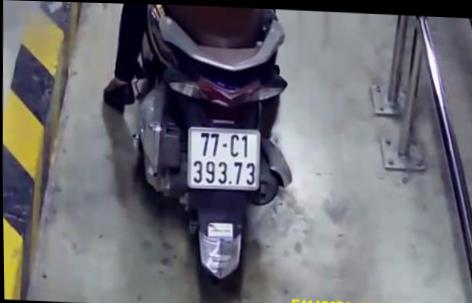LP: (182, 123, 261, 192)
